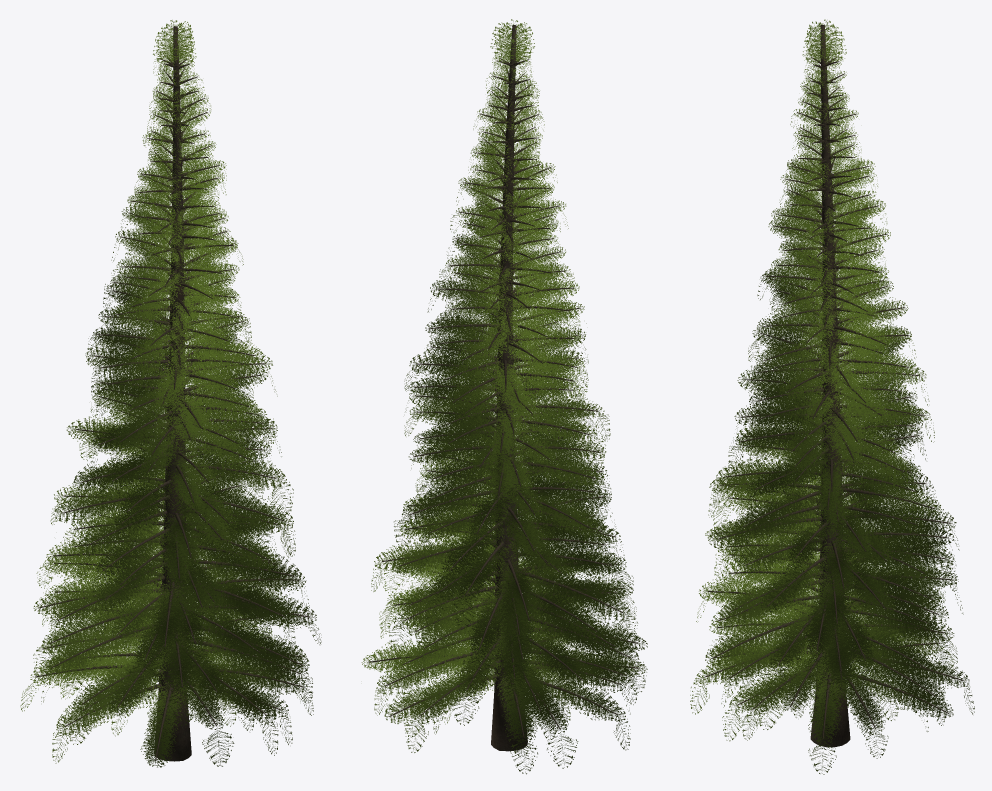
The model's file is larch_sparse_v03.fbx.
3 renders of one model, left to right at view 1: azimuth 30°, elevation 25°; view 2: azimuth 150°, elevation 25°; view 3: azimuth 270°, elevation 25°, orthographic. The views are drawn at different scales.
Visible parts, largest first — view 1: larch_sparse_v03; view 2: larch_sparse_v03; view 3: larch_sparse_v03.
Boxes of the visible parts, x1,y1,x2,y2 form: larch_sparse_v03: [20, 20, 321, 767]; larch_sparse_v03: [361, 19, 647, 774]; larch_sparse_v03: [690, 19, 974, 774].
Bounding box in the file's own units: 791 × 747 × 2021.
Materials: 2 (2 with a texture image).
